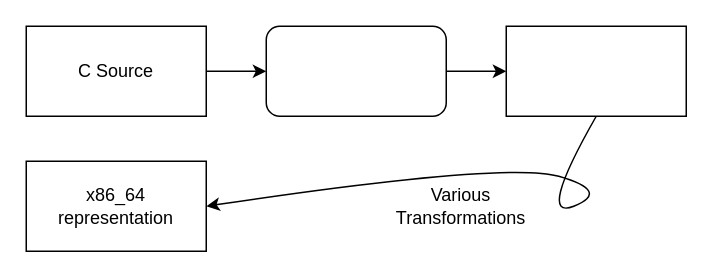
The diagram is 713 pixels wide and 278 high, and some of its shapes have lost their labels. Each missing label, with the box of its shape:
C Light: (505, 25, 686, 116)
Parser, Typechecker, Simplifier: (265, 25, 446, 116)
